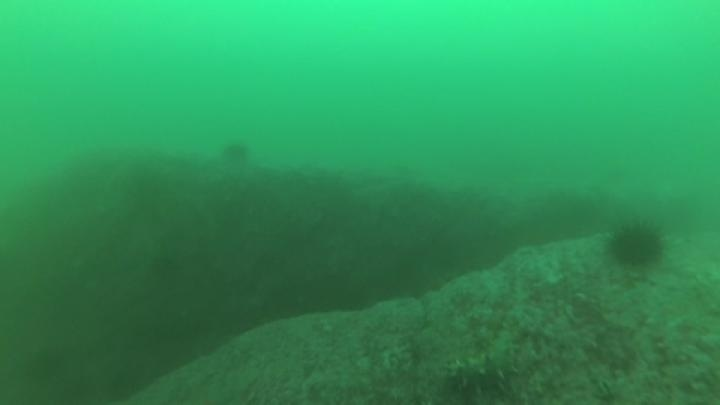echinus: (604, 217, 669, 272), (219, 138, 253, 168)
holothurian: (442, 324, 527, 396)
